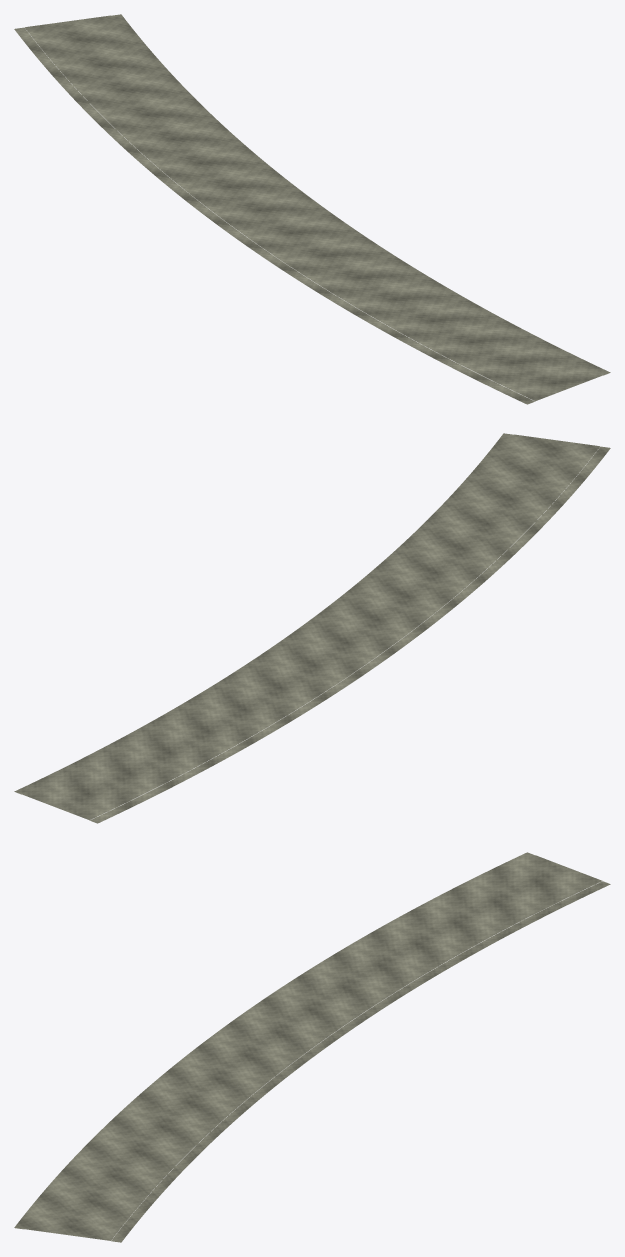
File: road_gravel_curve_64m.glb
The picture shows the model from 3 angles, top to bottom: view 1: azimuth 30°, elevation 25°; view 2: azimuth 150°, elevation 25°; view 3: azimuth 330°, elevation 25°; orthographic projection.
Visible parts, largest first — view 1: static_gravel; view 2: static_gravel; view 3: static_gravel.
Boxes of the visible parts, <box> form: static_gravel: <box>14,14,610,404</box>; static_gravel: <box>14,433,610,823</box>; static_gravel: <box>14,852,610,1242</box>.
Size of the model in its own units: 10.6 by 0.018 by 65.51.
1 material, 1 textured.
